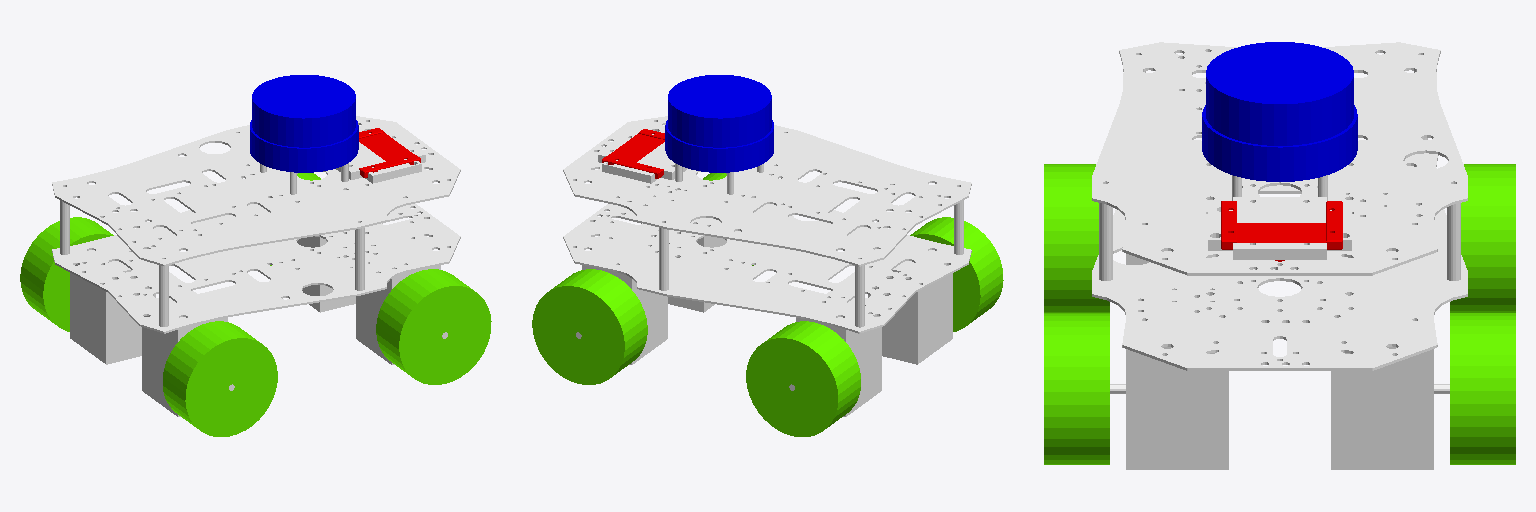
URDF robot description (urdf_mac):
<?xml version="1.0" encoding="utf-8"?>
<!-- This URDF was automatically created by SolidWorks to URDF Exporter! Originally created by [author] (
[email redacted]
) 
     Commit Version: 1.6.0-1-g15f4949  Build Version: 1.6.7594.29634
     For more information, please see 
http://wiki.ros.org/sw_urdf_exporter
 -->
<robot
  name="urdf_mac">
  <link name="base_footprint"/>
  <link
    name="base_link">
    <inertial>
      <origin
        xyz="-0.00345009515624467 -0.000811925465148327 -0.020855168979848"
        rpy="0 0 0" />
      <mass
        value="0.694509766133661" />
      <inertia
        ixx="0.000603027120040638"
        ixy="4.69409083252183E-09"
        ixz="-1.30996599032809E-17"
        iyy="0.000899359176166418"
        iyz="-4.16273827571597E-19"
        izz="0.00106908161243213" />
    </inertial>
    <visual>
      <origin
        xyz="0 0 0"
        rpy="0 0 0" />
      <geometry>
        <mesh
          filename="package://urdf_show/meshes/base_link.STL" />
      </geometry>
      <material
        name="">
        <color
          rgba="1 1 1 1" />
      </material>
    </visual>
    <collision>
      <origin
        xyz="0 0 0"
        rpy="0 0 0" />
      <geometry>
        <mesh
          filename="package://urdf_show/meshes/base_link.STL" />
      </geometry>
    </collision>
  </link>
  <joint name="base_footprint_joint" type="fixed">
    <parent link="base_footprint"/>
    <child link="base_link"/>
    <origin xyz="0 0 0.07" rpy="0 0 0"/>
  </joint>
  <link
    name="wheel_lf_Link">
    <inertial>
      <origin
        xyz="-2.51746903167185E-07 -0.0159999999980195 -4.85722573273506E-17"
        rpy="0 0 0" />
      <mass
        value="0.138752357740151" />
      <inertia
        ixx="6.01501377234048E-05"
        ixy="5.73821432918343E-10"
        ixz="1.6307445944817E-24"
        iyy="9.66198730320713E-05"
        iyz="1.03643433851149E-19"
        izz="6.01501377143761E-05" />
    </inertial>
    <visual>
      <origin
        xyz="0 0 0"
        rpy="0 0 0" />
      <geometry>
        <mesh
          filename="package://urdf_show/meshes/wheel_lf_Link.STL" />
      </geometry>
      <material
        name="">
        <color
          rgba="0.454901960784314 1 0.0274509803921569 1" />
      </material>
    </visual>
    <collision>
      <origin
        xyz="0 0 0"
        rpy="0 0 0" />
      <geometry>
        <mesh
          filename="package://urdf_show/meshes/wheel_lf_Link.STL" />
      </geometry>
    </collision>
  </link>
  <joint
    name="wheel_lf_jiont"
    type="continuous">
    <origin
      xyz="0.078733 0.11419 -0.0343"
      rpy="0 0 0" />
    <parent
      link="base_link" />
    <child
      link="wheel_lf_Link" />
    <axis
      xyz="-1.5734E-05 -1 0" />
  </joint>
  <link
    name="wheel_lb_Link">
    <inertial>
      <origin
        xyz="-2.51746903184857E-07 -0.0159999999979304 -9.81159598012482E-15"
        rpy="0 0 0" />
      <mass
        value="0.138752357740151" />
      <inertia
        ixx="6.01501377234048E-05"
        ixy="5.73821432918343E-10"
        ixz="1.6307445944817E-24"
        iyy="9.66198730320713E-05"
        iyz="1.03643433851149E-19"
        izz="6.01501377143761E-05" />
    </inertial>
    <visual>
      <origin
        xyz="0 0 0"
        rpy="0 0 0" />
      <geometry>
        <mesh
          filename="package://urdf_show/meshes/wheel_lb_Link.STL" />
      </geometry>
      <material
        name="">
        <color
          rgba="0.454901960784314 1 0.0274509803921569 1" />
      </material>
    </visual>
    <collision>
      <origin
        xyz="0 0 0"
        rpy="0 0 0" />
      <geometry>
        <mesh
          filename="package://urdf_show/meshes/wheel_lb_Link.STL" />
      </geometry>
    </collision>
  </link>
  <joint
    name="wheel_lb_jiont"
    type="continuous">
    <origin
      xyz="-0.093167 0.11419 -0.0343"
      rpy="0 0 0" />
    <parent
      link="base_link" />
    <child
      link="wheel_lb_Link" />
    <axis
      xyz="-1.5734E-05 -1 0" />
  </joint>
  <link
    name="wheel_rf_Link">
    <inertial>
      <origin
        xyz="2.51746903166751E-07 0.0159999999980195 4.16333634234434E-17"
        rpy="0 0 0" />
      <mass
        value="0.138752357740151" />
      <inertia
        ixx="6.01501377234048E-05"
        ixy="5.73821432918174E-10"
        ixz="9.12348715686635E-22"
        iyy="9.66198730320713E-05"
        iyz="1.07085310075247E-19"
        izz="6.01501377143762E-05" />
    </inertial>
    <visual>
      <origin
        xyz="0 0 0"
        rpy="0 0 0" />
      <geometry>
        <mesh
          filename="package://urdf_show/meshes/wheel_rf_Link.STL" />
      </geometry>
      <material
        name="">
        <color
          rgba="0.454901960784314 1 0.0274509803921569 1" />
      </material>
    </visual>
    <collision>
      <origin
        xyz="0 0 0"
        rpy="0 0 0" />
      <geometry>
        <mesh
          filename="package://urdf_show/meshes/wheel_rf_Link.STL" />
      </geometry>
    </collision>
  </link>
  <joint
    name="wheel_rf_jiont"
    type="continuous">
    <origin
      xyz="0.078729 -0.11581 -0.0343"
      rpy="0 0 0" />
    <parent
      link="base_link" />
    <child
      link="wheel_rf_Link" />
    <axis
      xyz="-1.5734E-05 -1 0" />
  </joint>
  <link
    name="wheel_rb_Link">
    <inertial>
      <origin
        xyz="2.51746903157102E-07 0.0159999999981975 -1.95121696577871E-14"
        rpy="0 0 0" />
      <mass
        value="0.138752357740151" />
      <inertia
        ixx="6.01501377234047E-05"
        ixy="5.7382143291903E-10"
        ixz="1.77898026909646E-21"
        iyy="9.66198730320713E-05"
        iyz="1.07353945531233E-19"
        izz="6.01501377143761E-05" />
    </inertial>
    <visual>
      <origin
        xyz="0 0 0"
        rpy="0 0 0" />
      <geometry>
        <mesh
          filename="package://urdf_show/meshes/wheel_rb_Link.STL" />
      </geometry>
      <material
        name="">
        <color
          rgba="0.454901960784314 1 0.0274509803921569 1" />
      </material>
    </visual>
    <collision>
      <origin
        xyz="0 0 0"
        rpy="0 0 0" />
      <geometry>
        <mesh
          filename="package://urdf_show/meshes/wheel_rb_Link.STL" />
      </geometry>
    </collision>
  </link>
  <joint
    name="wheel_rb_jiont"
    type="continuous">
    <origin
      xyz="-0.093171 -0.11581 -0.0343"
      rpy="0 0 0" />
    <parent
      link="base_link" />
    <child
      link="wheel_rb_Link" />
    <axis
      xyz="-1.5734E-05 -1 0" />
  </joint>
  <link
    name="lidar_Link">
    <inertial>
      <origin
        xyz="-6.93889390390723E-18 5.73896585500311E-17 0.00143227237787373"
        rpy="0 0 0" />
      <mass
        value="0.176722252250501" />
      <inertia
        ixx="8.55819017377435E-05"
        ixy="3.32154374971703E-21"
        ixz="-1.00227125988886E-18"
        iyy="8.55819017377435E-05"
        iyz="-1.38861436111947E-19"
        izz="0.000121566383749096" />
    </inertial>
    <visual>
      <origin
        xyz="0 0 0"
        rpy="0 0 0" />
      <geometry>
        <mesh
          filename="package://urdf_show/meshes/lidar_Link.STL" />
      </geometry>
      <material
        name="">
        <color
          rgba="0 0 1 1" />
      </material>
    </visual>
    <collision>
      <origin
        xyz="0 0 0"
        rpy="0 0 0" />
      <geometry>
        <mesh
          filename="package://urdf_show/meshes/lidar_Link.STL" />
      </geometry>
    </collision>
  </link>
  <joint
    name="lidar_jiont"
    type="fixed">
    <origin
      xyz="0.031473 -0.00081141 0.0916"
      rpy="0 0 3.14159" />
    <parent
      link="base_link" />
    <child
      link="lidar_Link" />
    <axis
      xyz="0 0 0" />
  </joint>
  <link
    name="imu_link">
    <inertial>
      <origin
        xyz="1.73472347597681E-17 -3.1964619419734E-05 0.00566835947467195"
        rpy="0 0 0" />
      <mass
        value="0.02360959092876" />
      <inertia
        ixx="4.38737022218534E-06"
        ixy="3.20329982508793E-21"
        ixz="2.48724729228464E-21"
        iyy="5.41912555778054E-06"
        iyz="1.81408747925597E-09"
        izz="9.32311327391668E-06" />
    </inertial>
    <visual>
      <origin
        xyz="0 0 0"
        rpy="0 0 0" />
      <geometry>
        <mesh
          filename="package://urdf_show/meshes/imu_Link.STL" />
      </geometry>
      <material
        name="">
        <color
          rgba="1 0 0 1" />
      </material>
    </visual>
    <collision>
      <origin
        xyz="0 0 0"
        rpy="0 0 0" />
      <geometry>
        <mesh
          filename="package://urdf_show/meshes/imu_Link.STL" />
      </geometry>
    </collision>
  </link>
  <joint
    name="imu_jiont"
    type="fixed">
    <origin
      xyz="0.08633 0 0.06"
      rpy="3.1415 0 1.5708" />
    <parent
      link="base_link" />
    <child
      link="imu_link" />
    <axis
      xyz="0 0 0" />
  </joint>
</robot>

--- Render facts (derived) ---
Views: 3 orthographic renders of the robot side by side, from view 1: azimuth 30°, elevation 25°; view 2: azimuth 150°, elevation 25°; view 3: azimuth 270°, elevation 25°.
Robot: urdf_mac — 8 links, 7 joints (4 continuous, 3 fixed); root link base_footprint; default pose: every joint at zero.
Visible links, largest first — view 1: base_link, wheel_rb_Link, wheel_rf_Link, lidar_Link, wheel_lb_Link, imu_link; view 2: base_link, wheel_lf_Link, wheel_lb_Link, lidar_Link, wheel_rb_Link, imu_link; view 3: base_link, lidar_Link, wheel_lf_Link, wheel_rf_Link, wheel_lb_Link, wheel_rb_Link, imu_link.
Link boxes in pixels (<box>): base_link: <box>52,116,460,416</box>; wheel_rb_Link: <box>163,321,277,436</box>; wheel_rf_Link: <box>376,269,491,384</box>; lidar_Link: <box>250,75,358,172</box>; wheel_lb_Link: <box>20,217,113,331</box>; imu_link: <box>359,128,420,177</box>; base_link: <box>563,116,971,416</box>; wheel_lf_Link: <box>532,269,647,384</box>; wheel_lb_Link: <box>746,321,860,436</box>; lidar_Link: <box>665,75,773,172</box>; wheel_rb_Link: <box>910,217,1003,331</box>; imu_link: <box>602,129,664,178</box>; base_link: <box>1092,42,1467,469</box>; lidar_Link: <box>1202,42,1357,181</box>; wheel_lf_Link: <box>1450,313,1515,464</box>; wheel_rf_Link: <box>1044,313,1109,464</box>; wheel_lb_Link: <box>1450,164,1515,312</box>; wheel_rb_Link: <box>1044,164,1109,312</box>; imu_link: <box>1221,201,1342,261</box>.
Size in the robot's own frame: 0.2663 by 0.23 by 0.1855 metres.
Meshes: 7 distinct files referenced, 7 mesh visuals loaded (7 binary STL).